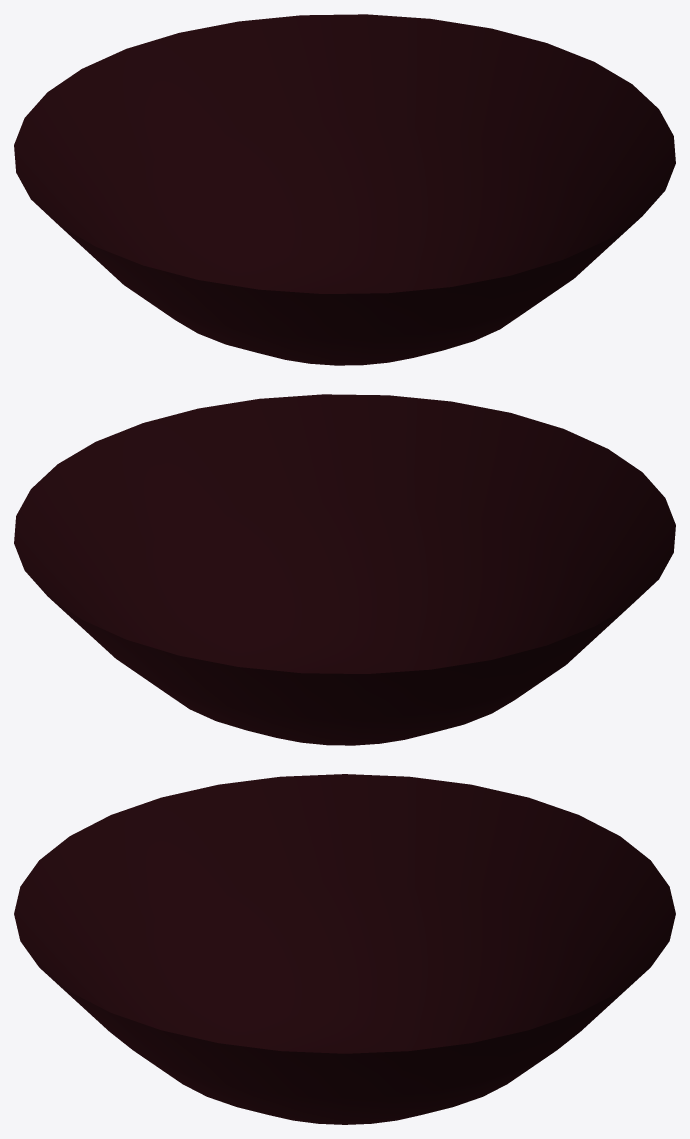
Rendered from HEY v2.glb.
3 renders of one model, top to bottom at view 1: azimuth 30°, elevation 25°; view 2: azimuth 150°, elevation 25°; view 3: azimuth 270°, elevation 25°, orthographic.
Parts seen in each view (by area): view 1: Circle; view 2: Circle; view 3: Circle.
Part boxes in pixels (x1,y1,x2,y2): Circle: (14, 14, 675, 365); Circle: (14, 394, 675, 745); Circle: (14, 774, 675, 1124).
Size of the model in its own units: 138 by 39.01 by 138.
